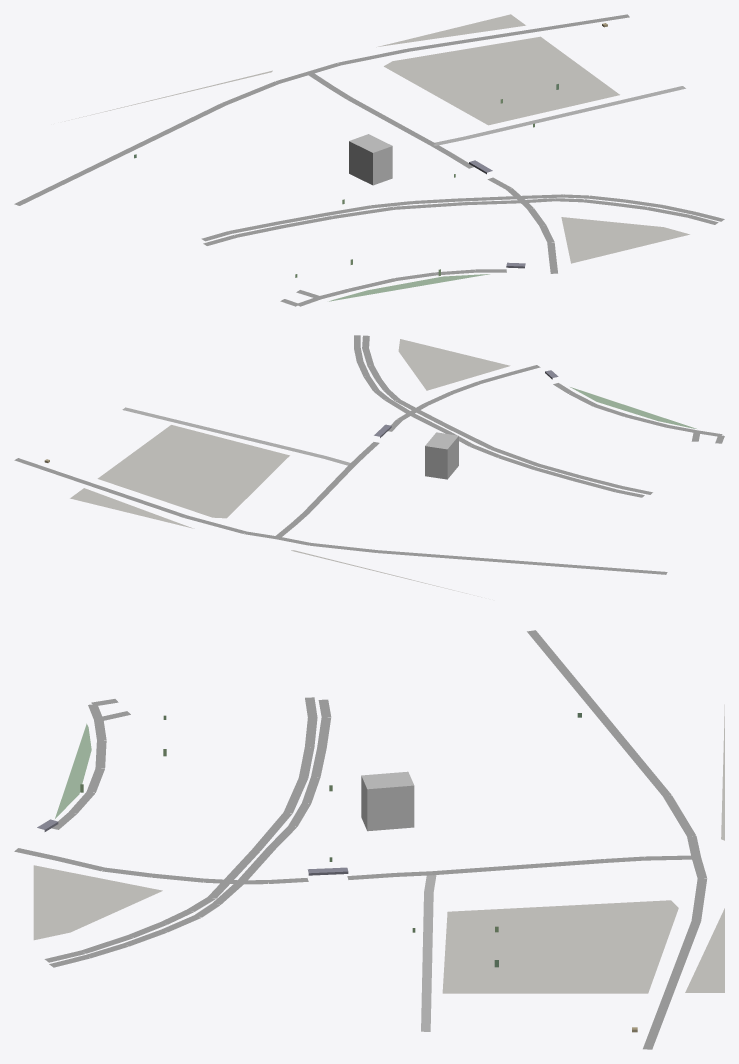
The picture shows the model from 3 angles, top to bottom: view 1: azimuth 30°, elevation 25°; view 2: azimuth 150°, elevation 25°; view 3: azimuth 270°, elevation 25°; orthographic projection. The views are drawn at different scales.
Size of the model in its own units: 709 by 36.63 by 514.
